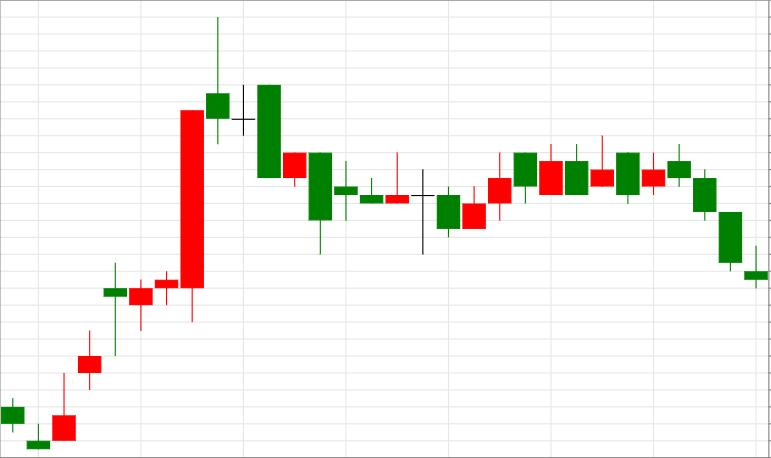shooting_star_fall: (53, 17, 229, 441)
